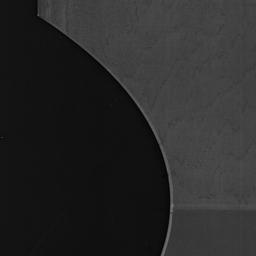Crescent gap: (39, 17, 170, 256)
